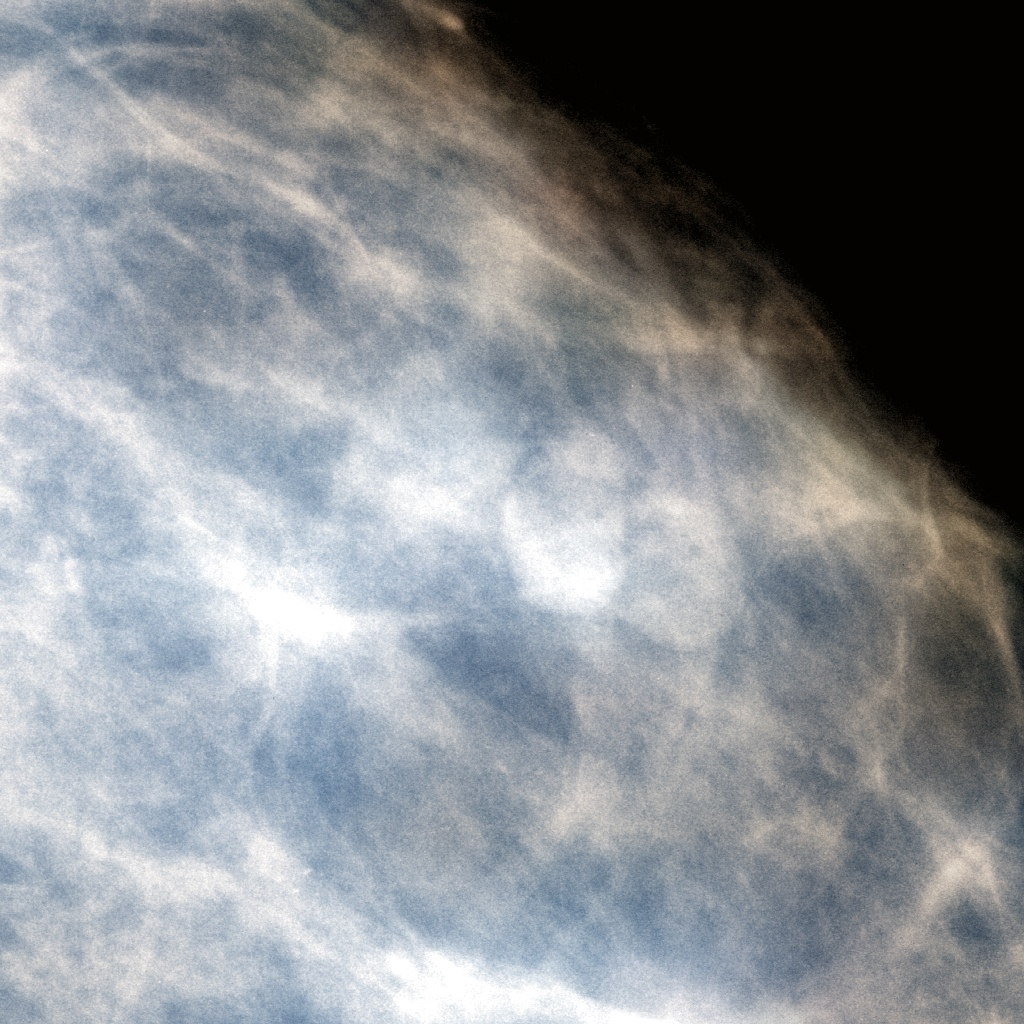tumor: (387, 390, 637, 634)
